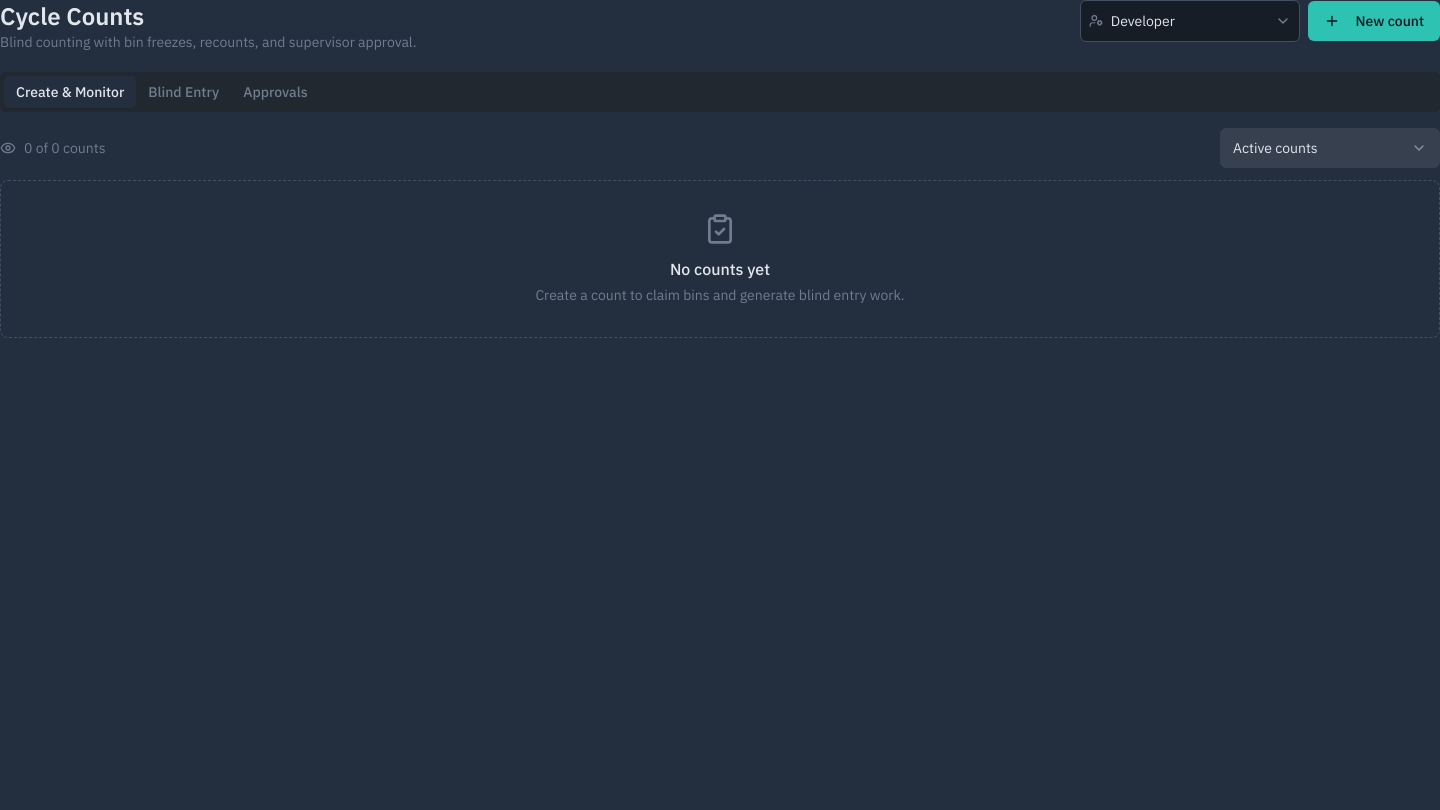
Test: CycleCountsPage › lets developers preview supervisor count controls from a popup with status filters
Expected: the text "Active counts" is shown, [1233,138,1318,158]
What coordinates should you click on to do the following:
click the button "New count"
I would click on:
 (1374, 21)
Its box is [1308,1,1439,41].
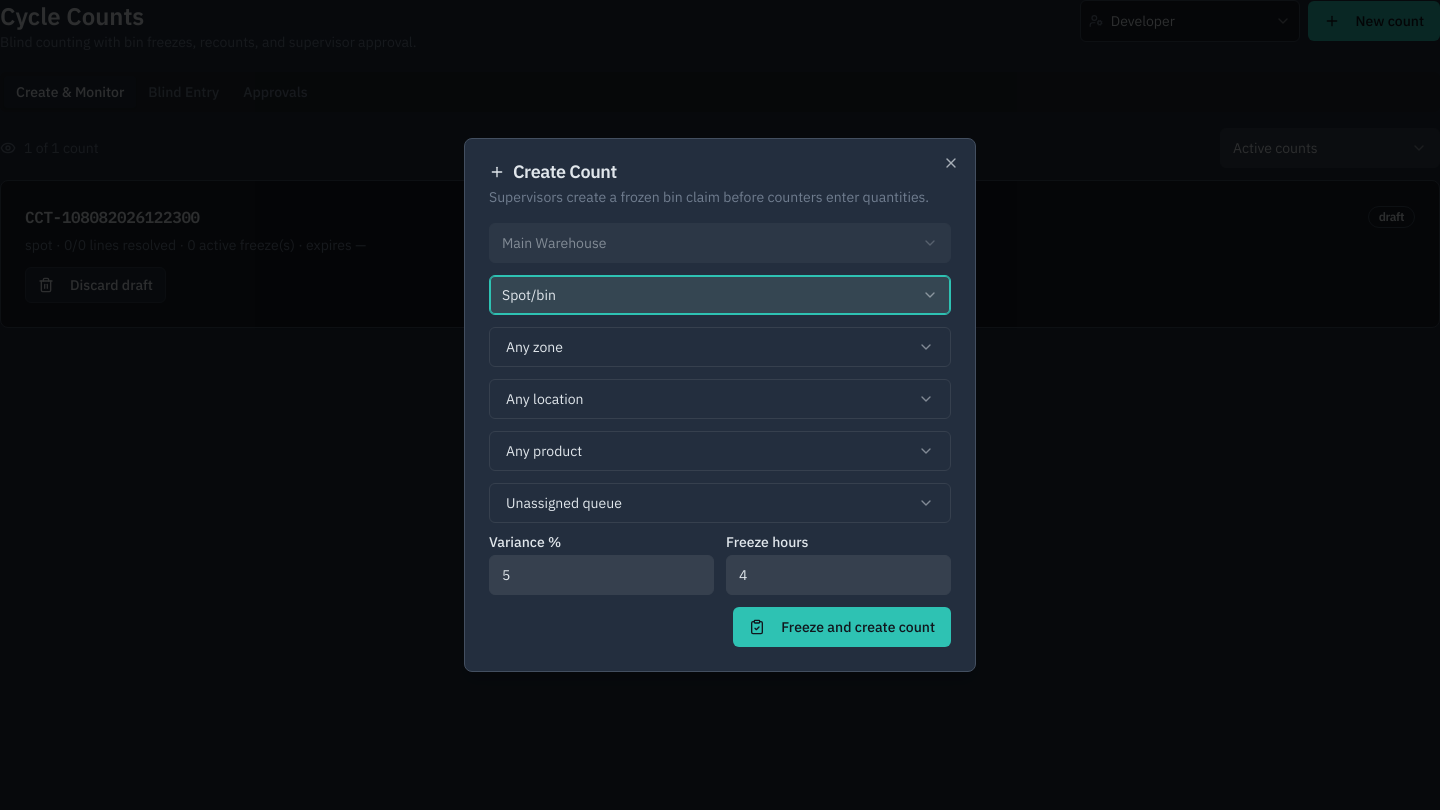
Expected: the dialog "Create Count" is shown, [464,138,976,672]
Expected: the button "Freeze and create count" is shown, [733,607,951,647]
Expected: the dropdown named "active warehouse" reads "Main Warehouse", [489,223,951,263]
